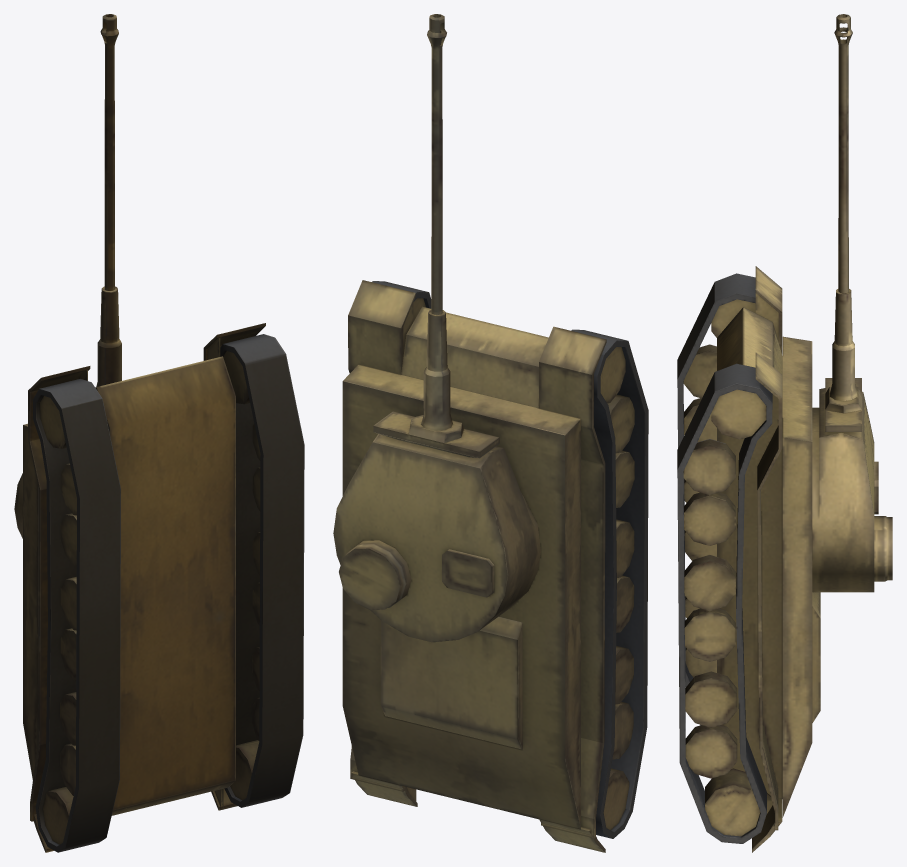
File: TigerP.fbx
3 views of the same model, side by side, from view 1: azimuth 30°, elevation 25°; view 2: azimuth 150°, elevation 25°; view 3: azimuth 270°, elevation 25° (orthographic). The views are drawn at different scales.
Parts seen in each view (by area): view 1: TigerP Body, TigerP Turret; view 2: TigerP Body, TigerP Turret; view 3: TigerP Body, TigerP Turret.
Part boxes in pixels (<box>): TigerP Body: <box>23,323,304,852</box>; TigerP Turret: <box>14,14,121,538</box>; TigerP Body: <box>342,280,648,852</box>; TigerP Turret: <box>333,14,540,642</box>; TigerP Body: <box>677,266,820,852</box>; TigerP Turret: <box>812,14,892,592</box>.
Bounding box in the file's own units: 129 × 427 × 106.
